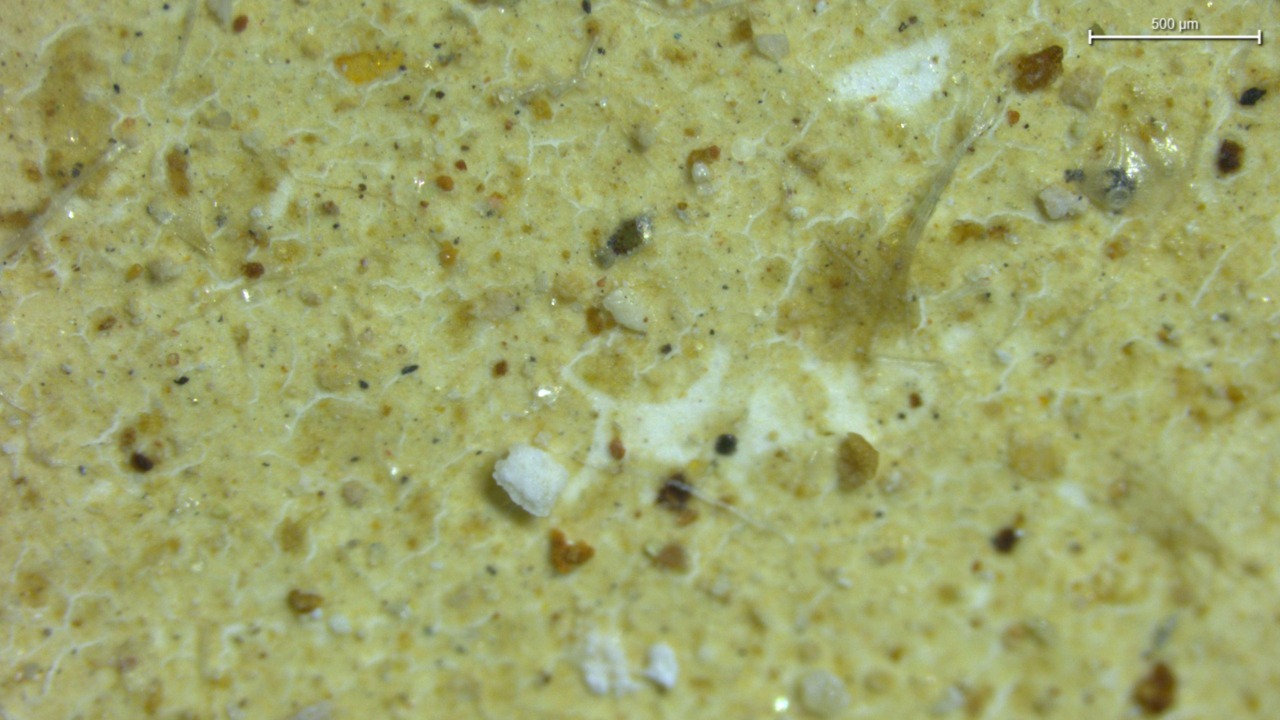microplastic_fragment: (494, 442, 568, 518), (608, 290, 649, 333), (1038, 190, 1085, 222), (648, 645, 677, 689), (752, 33, 790, 59)
